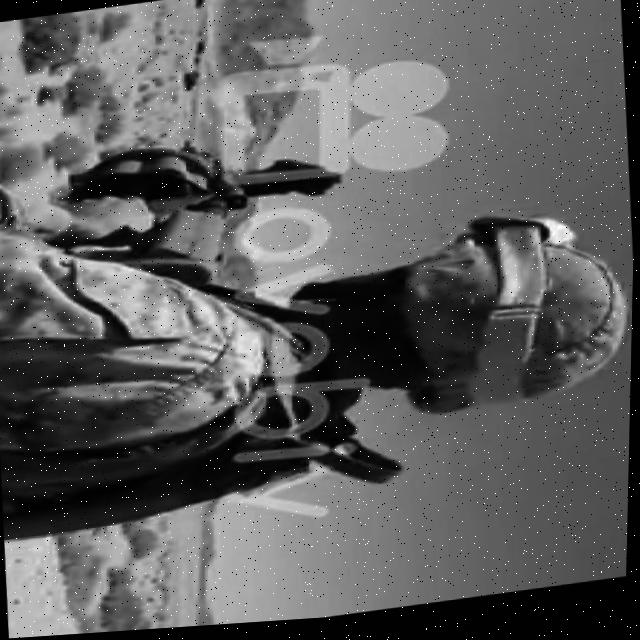rocket: (55, 120, 358, 309)
